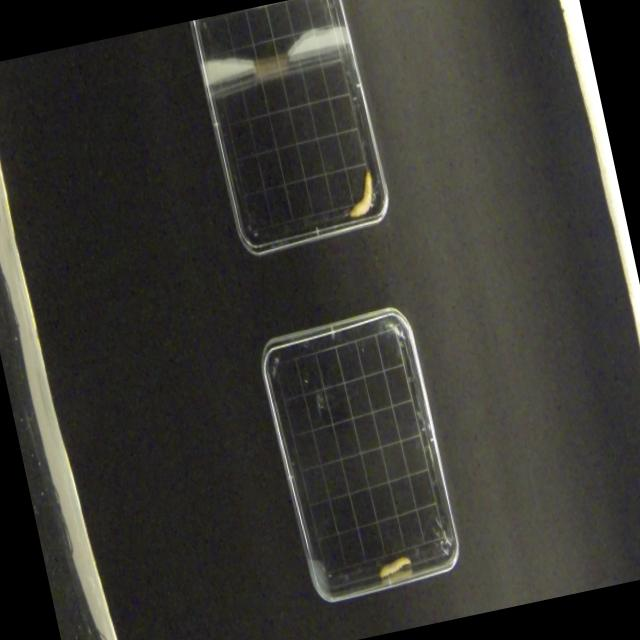larva: (340, 169, 380, 219), (370, 544, 416, 585)
